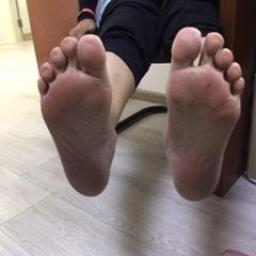Plantar View -Both Feet-: (26, 16, 250, 212)
